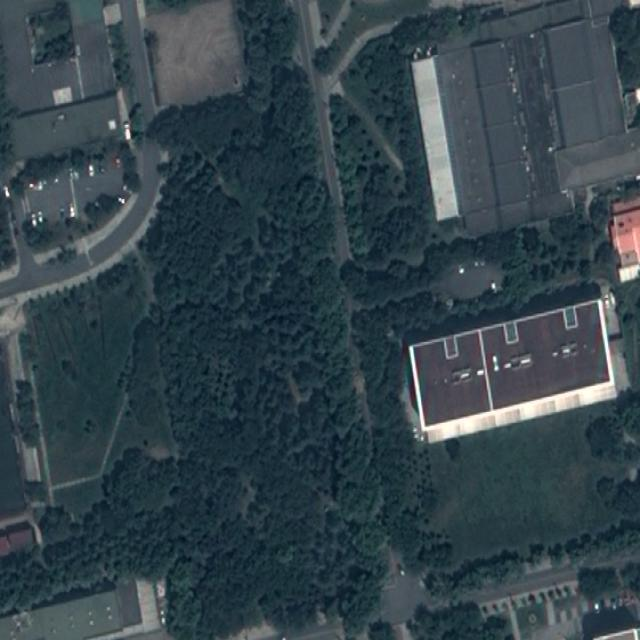Batiment: (411, 301, 615, 441), (435, 48, 498, 229), (472, 42, 530, 228), (545, 21, 624, 147), (411, 57, 459, 220), (11, 94, 119, 157), (556, 130, 640, 189), (610, 196, 640, 282)
